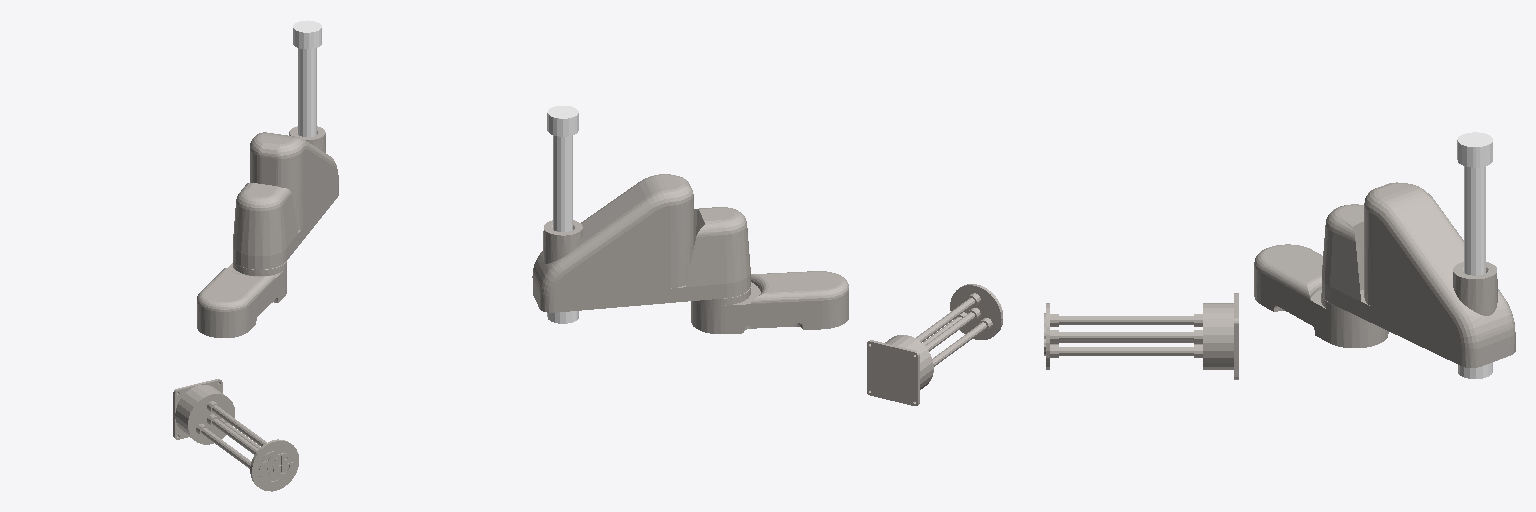
The robot description file, URDF, robot "Scara":
<?xml version="1.0" encoding="utf-8"?>
<!-- This URDF was automatically created by SolidWorks to URDF Exporter! Originally created by [author] ([email redacted]) 
     Commit Version: 1.6.0-1-g15f4949  Build Version: 1.6.7594.29634
     For more information, please see http://wiki.ros.org/sw_urdf_exporter -->
<robot
  name="Scara">
  <link
    name="base_link">
    <inertial>
      <origin
        xyz="0.15509 0.08915 0.10655"
        rpy="0 0 0" />
      <mass
        value="27.154" />
      <inertia
        ixx="0.12831"
        ixy="-0.00013182"
        ixz="-1.115E-05"
        iyy="0.11923"
        iyz="0.00027715"
        izz="0.096206" />
    </inertial>
    <visual>
      <origin
        xyz="0 0 0"
        rpy="0 0 0" />
      <geometry>
        <mesh
          filename="package://Scara/meshes/base_link.STL" />
      </geometry>
      <material
        name="">
        <color
          rgba="0.77647 0.75686 0.73725 1" />
      </material>
    </visual>
    <collision>
      <origin
        xyz="0 0 0"
        rpy="0 0 0" />
      <geometry>
        <mesh
          filename="package://Scara/meshes/base_link.STL" />
      </geometry>
    </collision>
  </link>
  <link
    name="link_1">
    <inertial>
      <origin
        xyz="3.6563E-09 0.061786 0.15491"
        rpy="0 0 0" />
      <mass
        value="40.19" />
      <inertia
        ixx="0.50815"
        ixy="-1.6635E-09"
        ixz="8.2183E-09"
        iyy="0.50975"
        iyz="-0.033417"
        izz="0.12975" />
    </inertial>
    <visual>
      <origin
        xyz="0 0 0"
        rpy="0 0 0" />
      <geometry>
        <mesh
          filename="package://Scara/meshes/link_1.STL" />
      </geometry>
      <material
        name="">
        <color
          rgba="0.77647 0.75686 0.73725 1" />
      </material>
    </visual>
    <collision>
      <origin
        xyz="0 0 0"
        rpy="0 0 0" />
      <geometry>
        <mesh
          filename="package://Scara/meshes/link_1.STL" />
      </geometry>
    </collision>
  </link>
  <joint
    name="joint_1"
    type="continuous">
    <origin
      xyz="0.15509 -0.10565 0.14236"
      rpy="1.5708 0 2.2128" />
    <parent
      link="base_link" />
    <child
      link="link_1" />
    <axis
      xyz="0 1 0" />
  </joint>
  <link
    name="link_2">
    <inertial>
      <origin
        xyz="-3.1243E-08 0.12413 0.20373"
        rpy="0 0 0" />
      <mass
        value="118.94" />
      <inertia
        ixx="2.7618"
        ixy="8.7614E-06"
        ixz="-1.5877E-08"
        iyy="2.3197"
        iyz="0.17283"
        izz="0.86325" />
    </inertial>
    <visual>
      <origin
        xyz="0 0 0"
        rpy="0 0 0" />
      <geometry>
        <mesh
          filename="package://Scara/meshes/link_2.STL" />
      </geometry>
      <material
        name="">
        <color
          rgba="0.77647 0.75686 0.73725 1" />
      </material>
    </visual>
    <collision>
      <origin
        xyz="0 0 0"
        rpy="0 0 0" />
      <geometry>
        <mesh
          filename="package://Scara/meshes/link_2.STL" />
      </geometry>
    </collision>
  </link>
  <joint
    name="joint_2"
    type="continuous">
    <origin
      xyz="0 0.094021 0.25"
      rpy="0 0.079547 0" />
    <parent
      link="link_1" />
    <child
      link="link_2" />
    <axis
      xyz="0 1 0" />
  </joint>
  <link
    name="link_3">
    <inertial>
      <origin
        xyz="0 0 -0.24098"
        rpy="0 0 0" />
      <mass
        value="1.4255" />
      <inertia
        ixx="0.051417"
        ixy="0"
        ixz="9.0945E-19"
        iyy="0.051417"
        iyz="-7.4297E-20"
        izz="0.00069051" />
    </inertial>
    <visual>
      <origin
        xyz="0 0 0"
        rpy="0 0 0" />
      <geometry>
        <mesh
          filename="package://Scara/meshes/link_3.STL" />
      </geometry>
      <material
        name="">
        <color
          rgba="1 1 1 1" />
      </material>
    </visual>
    <collision>
      <origin
        xyz="0 0 0"
        rpy="0 0 0" />
      <geometry>
        <mesh
          filename="package://Scara/meshes/link_3.STL" />
      </geometry>
    </collision>
  </link>
  <joint
    name="joint_3"
    type="continuous">
    <origin
      xyz="0 0 0.40562"
      rpy="1.5708 0.91577 0" />
    <parent
      link="link_2" />
    <child
      link="link_3" />
    <axis
      xyz="0 0 1" />
  </joint>
</robot>

--- Render facts (derived) ---
The picture shows the robot from 3 angles, left to right: view 1: azimuth 30°, elevation 25°; view 2: azimuth 150°, elevation 25°; view 3: azimuth 270°, elevation 25°; orthographic projection.
Model Scara with 4 links and 3 joints (3 continuous), rooted at base_link, posed all joints at 0.
Links seen in each view (by area): view 1: link_2, base_link, link_1, link_3; view 2: link_2, link_1, base_link, link_3; view 3: link_2, base_link, link_1, link_3.
Boxes of the visible links, x1,y1,x2,y2 form: link_2: (233,126,338,269); base_link: (173,379,298,491); link_1: (197,261,286,337); link_3: (293,20,321,136); link_2: (532,174,750,312); link_1: (691,271,848,333); base_link: (867,284,1002,405); link_3: (547,106,578,323); link_2: (1322,182,1515,367); base_link: (1044,293,1238,379); link_1: (1254,244,1388,347); link_3: (1457,132,1492,378).
Size in the robot's own frame: 0.8174 by 1.05 by 0.8631 metres.
Meshes: 4 distinct files referenced, 4 mesh visuals loaded (4 binary STL).